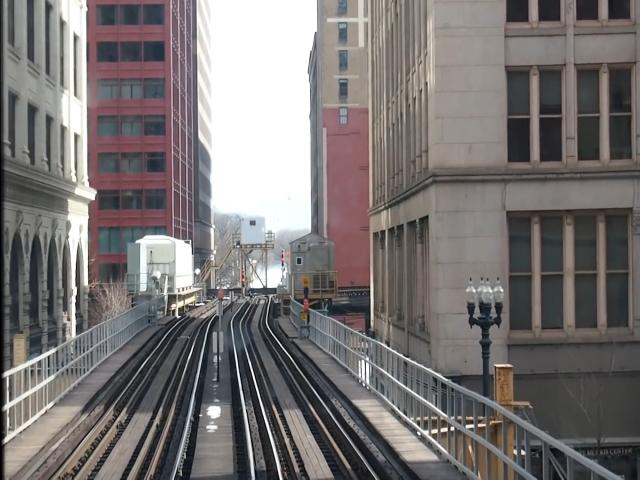signal light: (282, 250, 287, 269), (243, 271, 247, 290)
